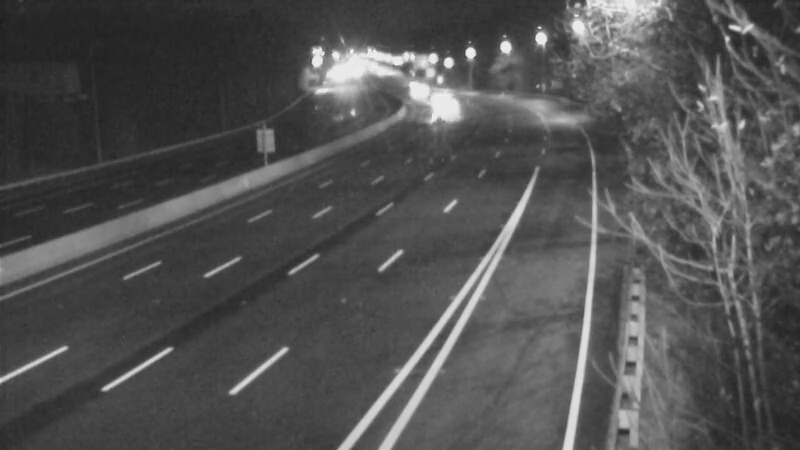vehicle: (392, 67, 442, 117), (416, 74, 466, 124), (424, 79, 474, 129), (414, 92, 464, 142)
